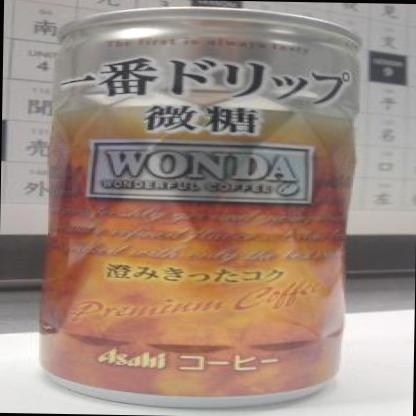alumunium_can: (31, 3, 364, 413)
